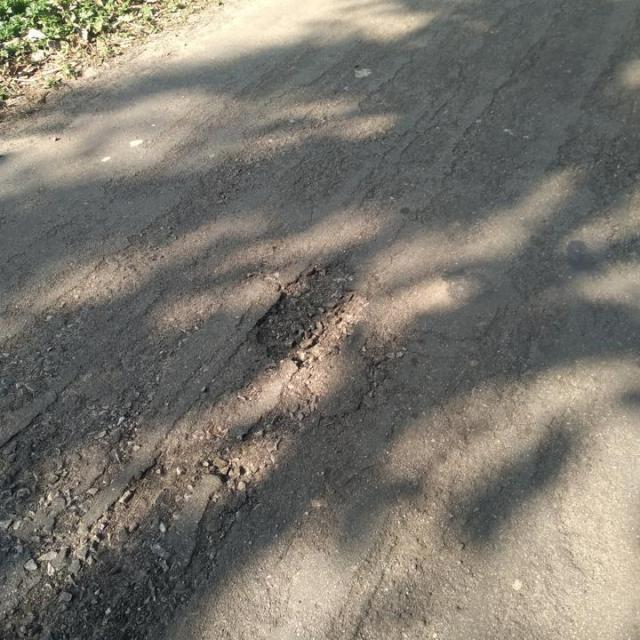pothole: (5, 394, 304, 634), (254, 249, 364, 345)
